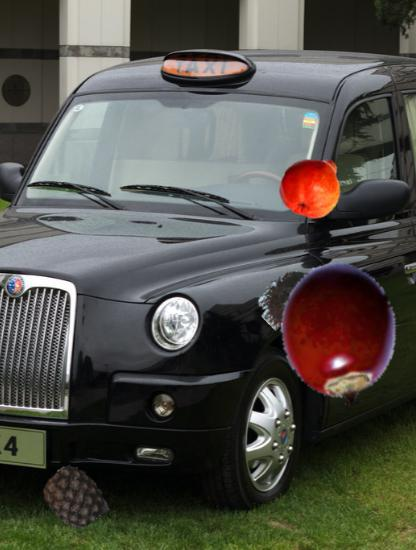Pear: (279, 153, 346, 220)
Pineapple: (43, 466, 105, 528)
Rambutan: (260, 265, 332, 337)
Tamarillo: (268, 261, 412, 405)
